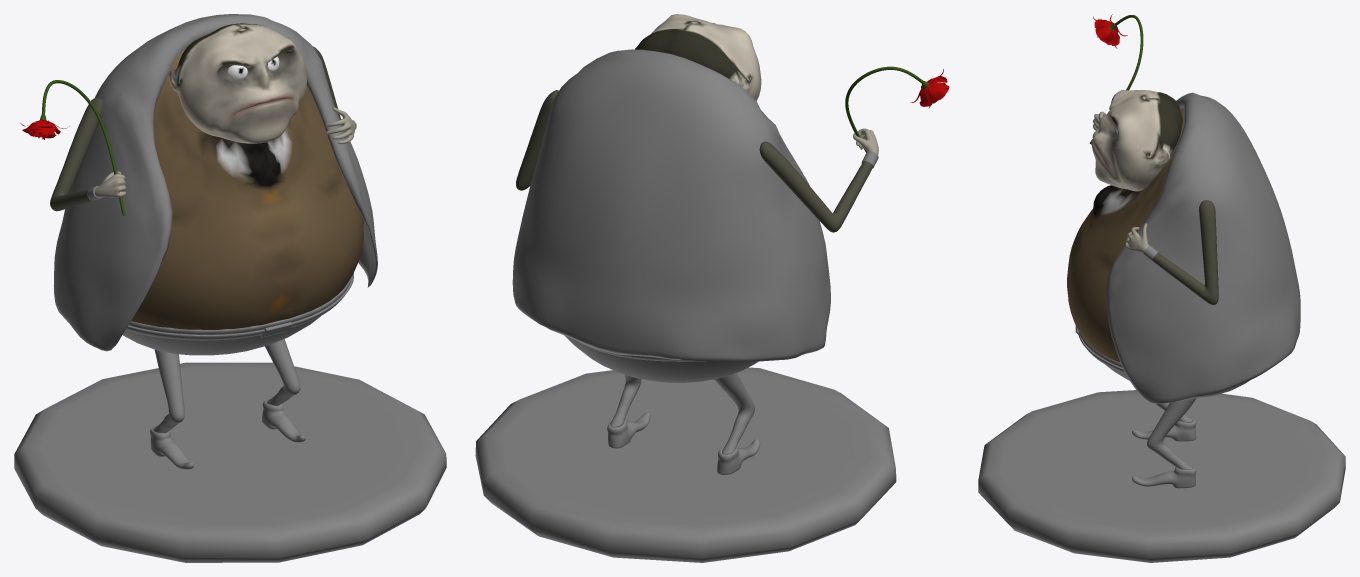
The model's file is PERSO_V1.fbx.
3 renders of one model, left to right at view 1: azimuth 30°, elevation 25°; view 2: azimuth 150°, elevation 25°; view 3: azimuth 270°, elevation 25°, orthographic. The views are drawn at different scales.
Parts seen in each view (by area): view 1: SOCLE_LOWPOLY, BODY_LOWPOLY, MANTEAU_LOWPOLY, HEAD_LOWPOLY, PANTALON_LOWPOLY, BRAS_FLEURS_LOWPOLY, JAMBE_2_LOWPOLY, CEINTURE_LOWPOLY, JAMBE_1_LOWPOLY, ROSE_LOWPOLY, CHAUSSURE_1_LOWPOLY, CHAUSSURE_2_LOWPOLY (+1 smaller); view 2: MANTEAU_LOWPOLY, SOCLE_LOWPOLY, HEAD_LOWPOLY, BRAS_FLEURS_LOWPOLY, PANTALON_LOWPOLY, JAMBE_2_LOWPOLY, BRAS_POSE_LOWPOLY, ROSE_LOWPOLY, CHAUSSURE_1_LOWPOLY, CHAUSSURE_2_LOWPOLY, JAMBE_1_LOWPOLY; view 3: SOCLE_LOWPOLY, MANTEAU_LOWPOLY, BODY_LOWPOLY, HEAD_LOWPOLY, BRAS_POSE_LOWPOLY, JAMBE_1_LOWPOLY, ROSE_LOWPOLY, CHAUSSURE_1_LOWPOLY, CHAUSSURE_2_LOWPOLY.
Boxes of the visible parts, <box> form: SOCLE_LOWPOLY: <box>14,362,446,562</box>; BODY_LOWPOLY: <box>131,47,363,329</box>; MANTEAU_LOWPOLY: <box>53,14,377,351</box>; HEAD_LOWPOLY: <box>168,23,306,143</box>; PANTALON_LOWPOLY: <box>122,275,352,355</box>; BRAS_FLEURS_LOWPOLY: <box>50,98,126,211</box>; JAMBE_2_LOWPOLY: <box>153,349,184,433</box>; CEINTURE_LOWPOLY: <box>126,273,353,340</box>; JAMBE_1_LOWPOLY: <box>265,339,300,405</box>; ROSE_LOWPOLY: <box>20,80,125,215</box>; CHAUSSURE_1_LOWPOLY: <box>262,399,305,442</box>; CHAUSSURE_2_LOWPOLY: <box>150,426,193,469</box>; MANTEAU_LOWPOLY: <box>512,49,830,361</box>; SOCLE_LOWPOLY: <box>475,367,896,562</box>; HEAD_LOWPOLY: <box>635,14,761,100</box>; BRAS_FLEURS_LOWPOLY: <box>759,128,878,232</box>; PANTALON_LOWPOLY: <box>564,335,757,382</box>; JAMBE_2_LOWPOLY: <box>714,373,754,454</box>; BRAS_POSE_LOWPOLY: <box>516,90,558,190</box>; ROSE_LOWPOLY: <box>845,66,949,152</box>; CHAUSSURE_1_LOWPOLY: <box>607,412,650,448</box>; CHAUSSURE_2_LOWPOLY: <box>717,439,760,474</box>; JAMBE_1_LOWPOLY: <box>610,375,641,427</box>; SOCLE_LOWPOLY: <box>978,390,1345,562</box>; MANTEAU_LOWPOLY: <box>1106,92,1300,403</box>; BODY_LOWPOLY: <box>1067,108,1183,362</box>; HEAD_LOWPOLY: <box>1091,90,1182,191</box>; BRAS_POSE_LOWPOLY: <box>1125,200,1218,304</box>; JAMBE_1_LOWPOLY: <box>1147,397,1196,469</box>; ROSE_LOWPOLY: <box>1089,14,1143,144</box>; CHAUSSURE_1_LOWPOLY: <box>1132,465,1196,488</box>; CHAUSSURE_2_LOWPOLY: <box>1132,418,1196,441</box>.
Bounding box in the file's own units: 3.69 × 3.76 × 3.2.
